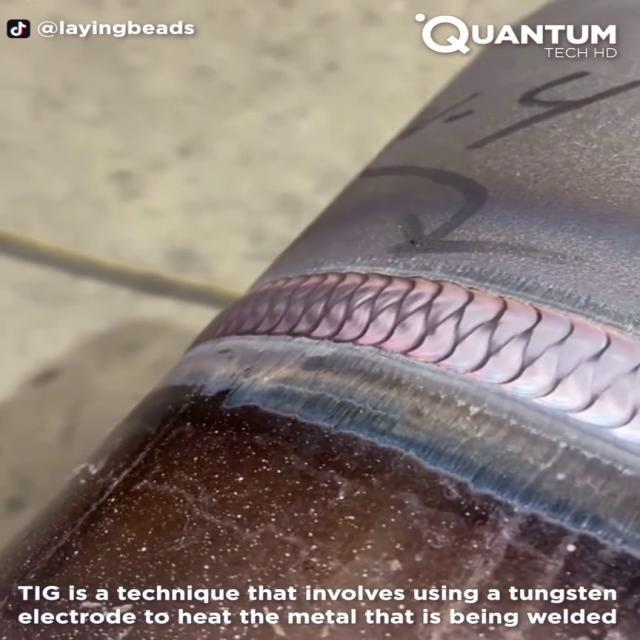Good Welding: (201, 272, 639, 441)
